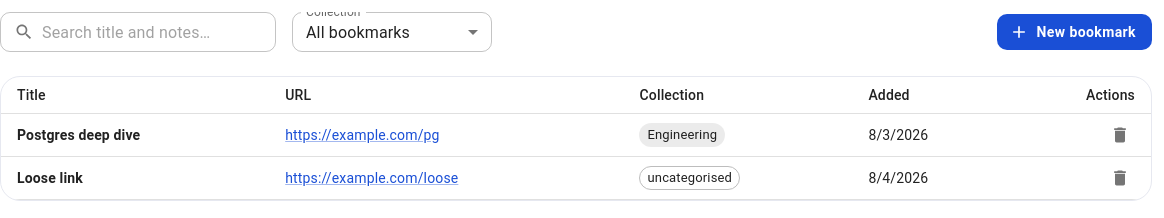
Test: BookmarksPage › search box (debounced) writes ?q= and filters via the API
Expected: the text "Postgres deep dive" is shown, [1, 114, 269, 156]
Type "loose" into the field with placeholder "Search title and notes…".
click(159, 32); type("loose")  # box [42, 12, 276, 52]
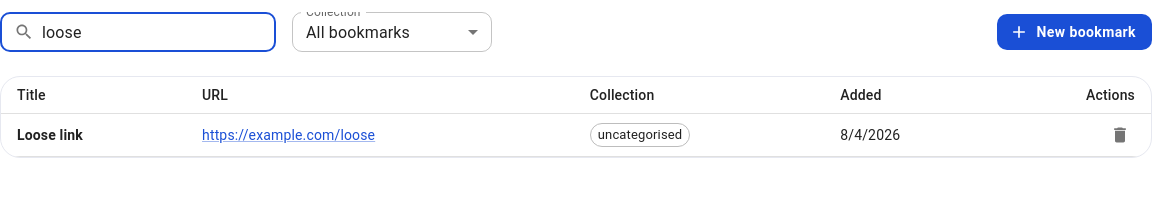
Expected: the text "Loose link" is shown, [1, 114, 186, 156]
Expected: the text "Postgres deep dive" is gone
